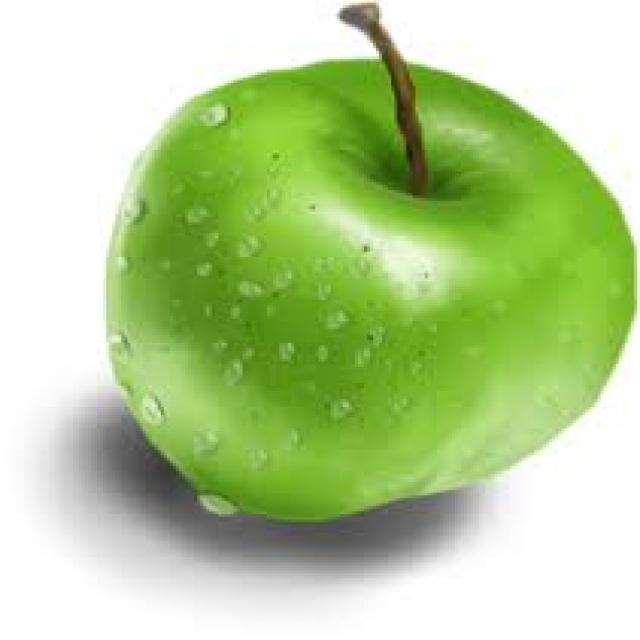non_orange: (73, 18, 640, 640)
